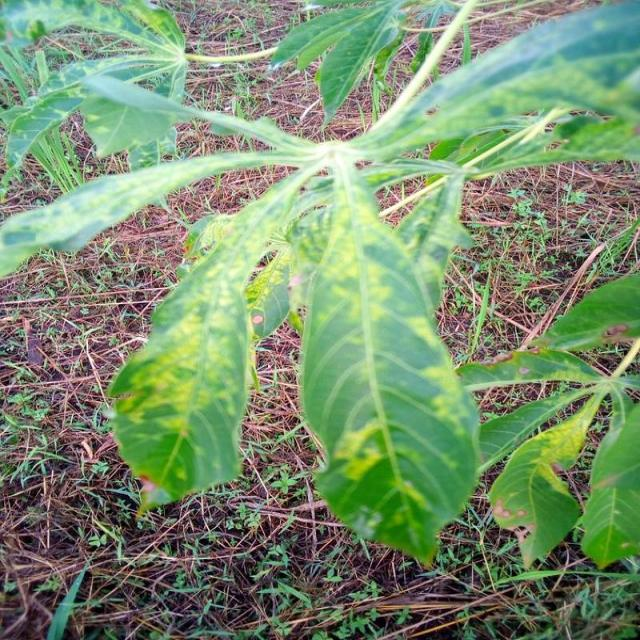cassava leaf: (0, 0, 638, 568), (296, 155, 483, 568), (104, 160, 319, 511)
